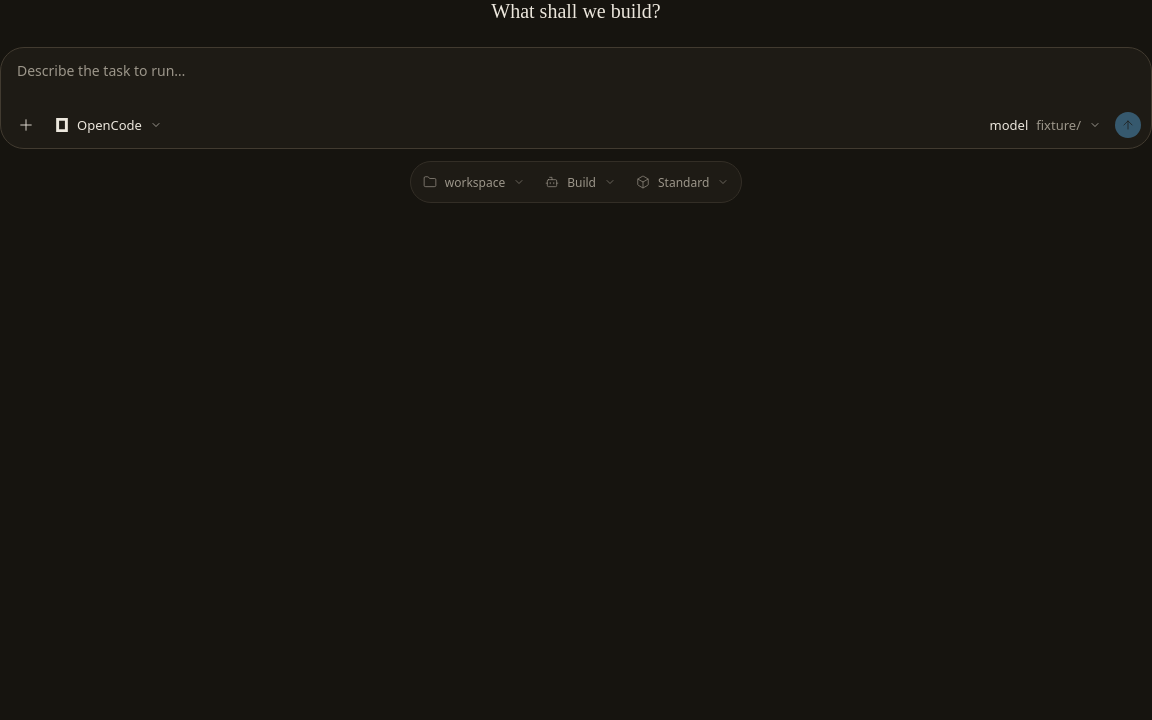
it: offers protection choices for daemon validation with the selected harness
The width and height of the screenshot is (1152, 720).
Check: the button with aria-label "Harness" reads "OpenCode", box [49,112,168,138]
Click the button with aria-label "Session protection" at (683, 182), box [630,168,735,196]
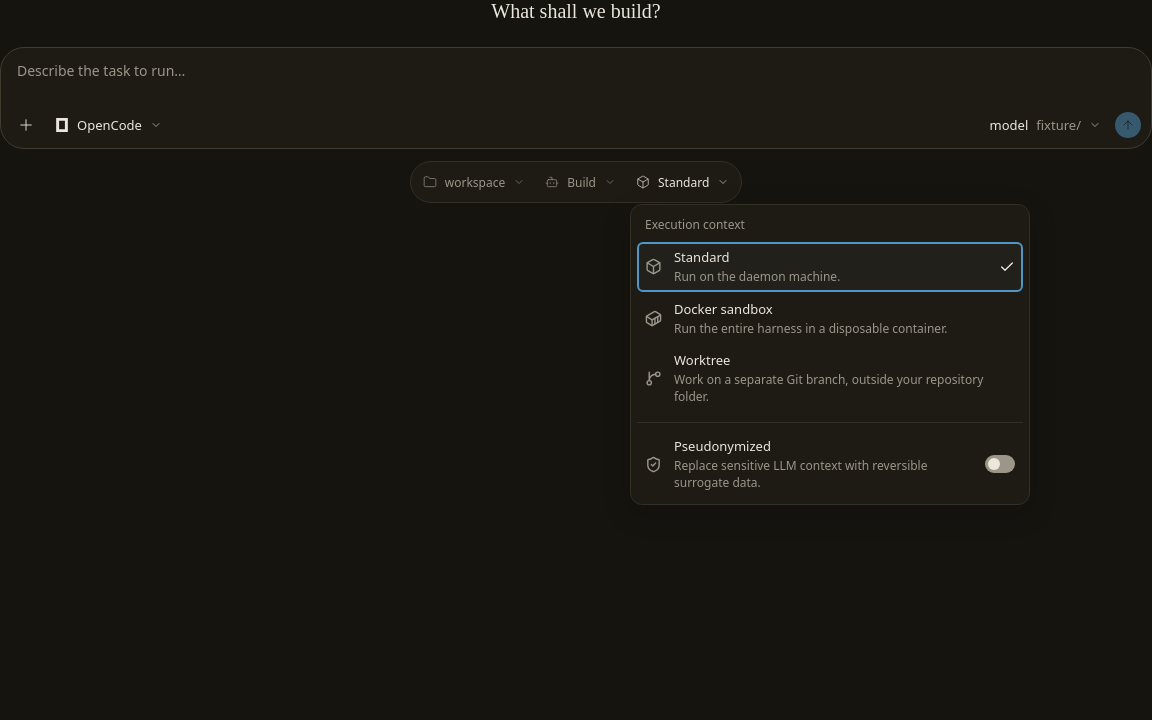
Check: the button "Standard Run on the daemon machine." is enabled, box [637,242,1023,292]
Check: the button "Docker sandbox" is enabled, box [637,294,1023,343]
Check: the button "Worktree" is enabled, box [637,345,1023,412]
